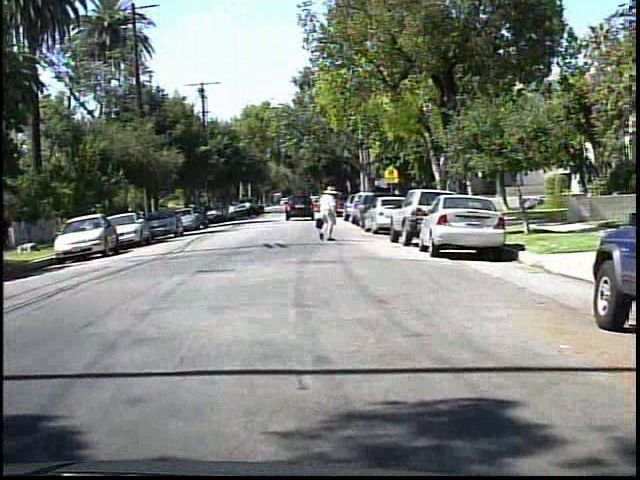person: (311, 184, 344, 244)
